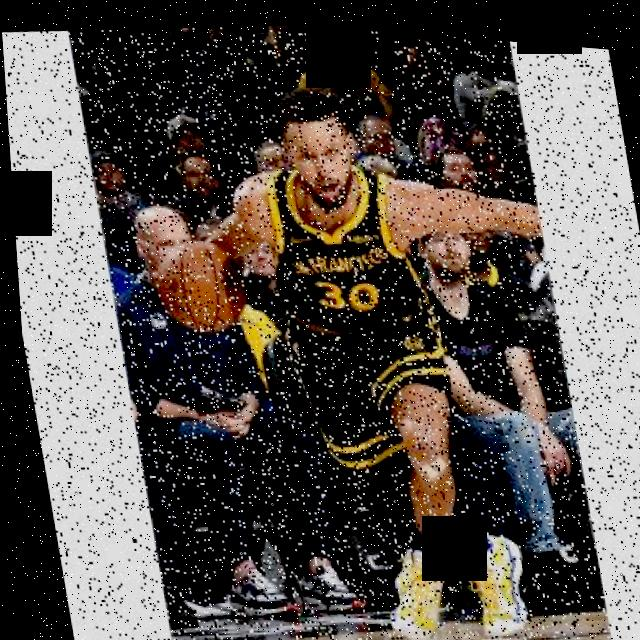shoe: (445, 519, 526, 636), (370, 530, 456, 640), (214, 555, 288, 620), (286, 550, 358, 610)
